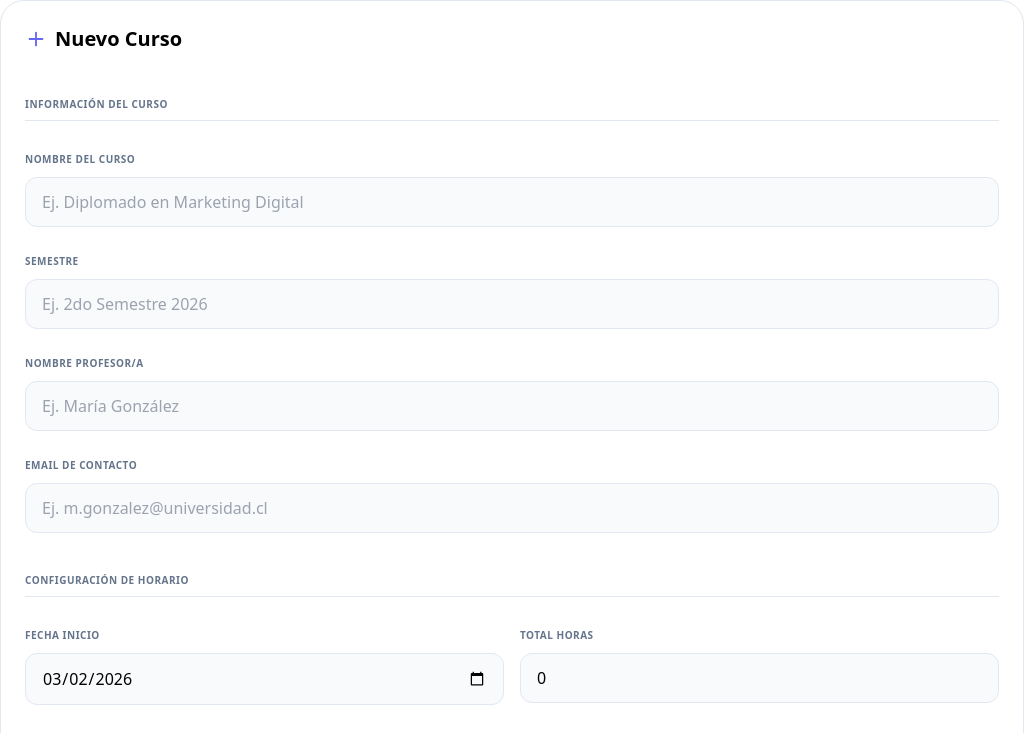
Test: CourseForm — inline validation (CORT-01) › totalHours: error clears eagerly when value becomes valid (D-02)
The image size is (1024, 733).
Click the number field named "TOTAL HORAS".
click(760, 678)  # box [520,653,999,703]
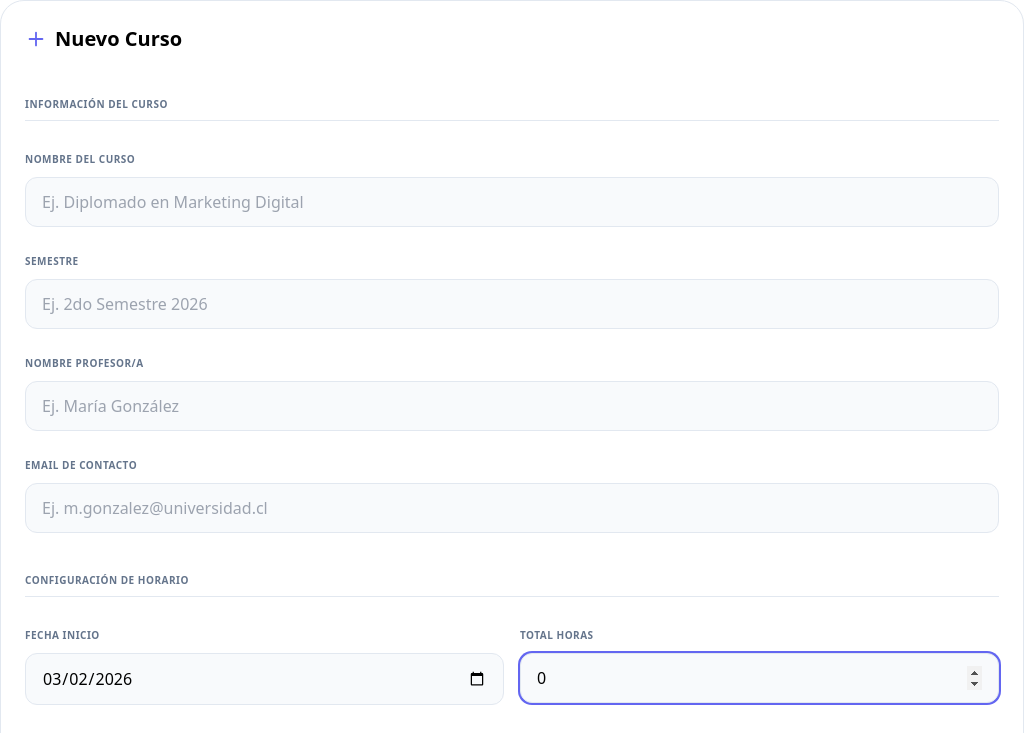
Press Tab
(page scrolled)
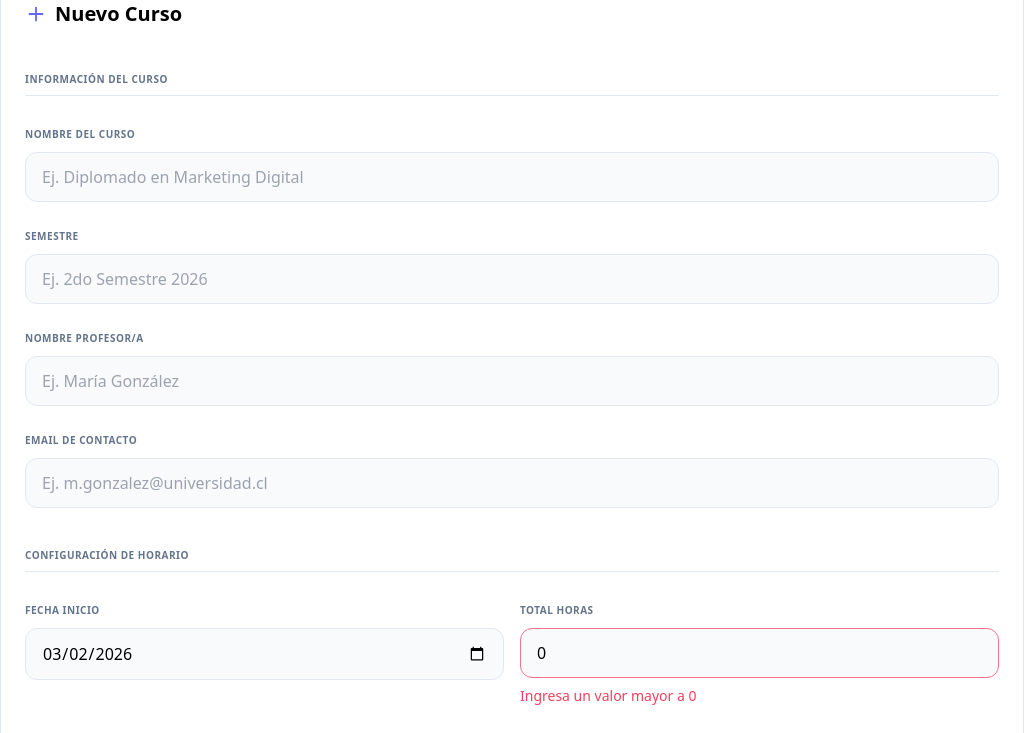
Check: the text "Ingresa un valor mayor a 0" is shown, box [520,686,696,705]
Replace the text in the number field named "TOTAL HORAS" with "5" at (760, 653), box [520,628,999,678]
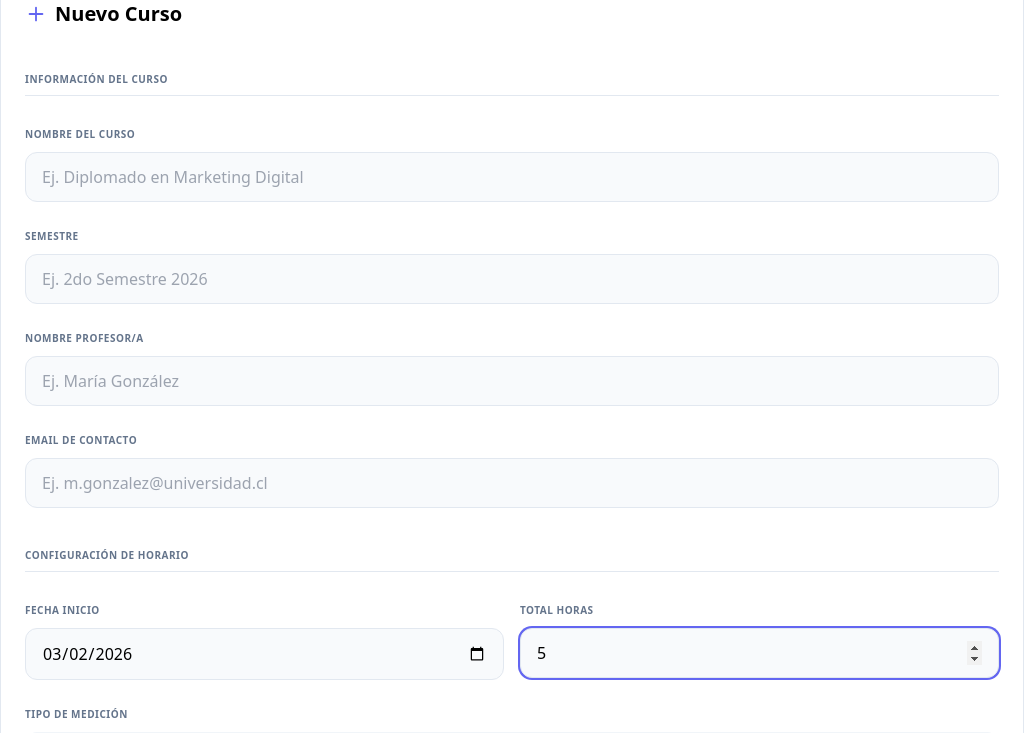
Check: the text "Ingresa un valor mayor a 0" is gone
